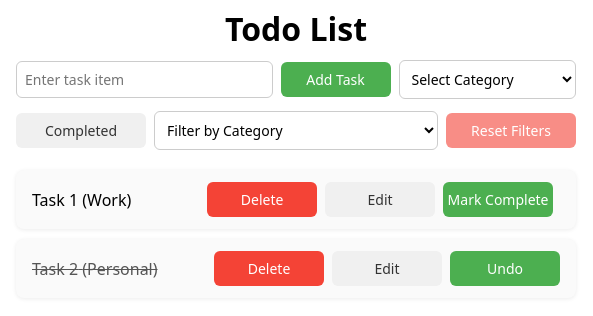
Test: TodoList Component › deletes a task
This screenshot has width=593, height=316.
What coordinates should you click on to do the following:
click the button "Delete" in the row of "Task 1"
I would click on:
 (262, 200)
Its box is [207,182,317,217].
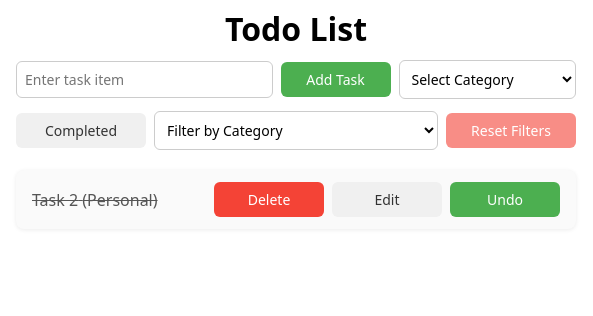
Result: the text "Task 1 (Work)" is gone
